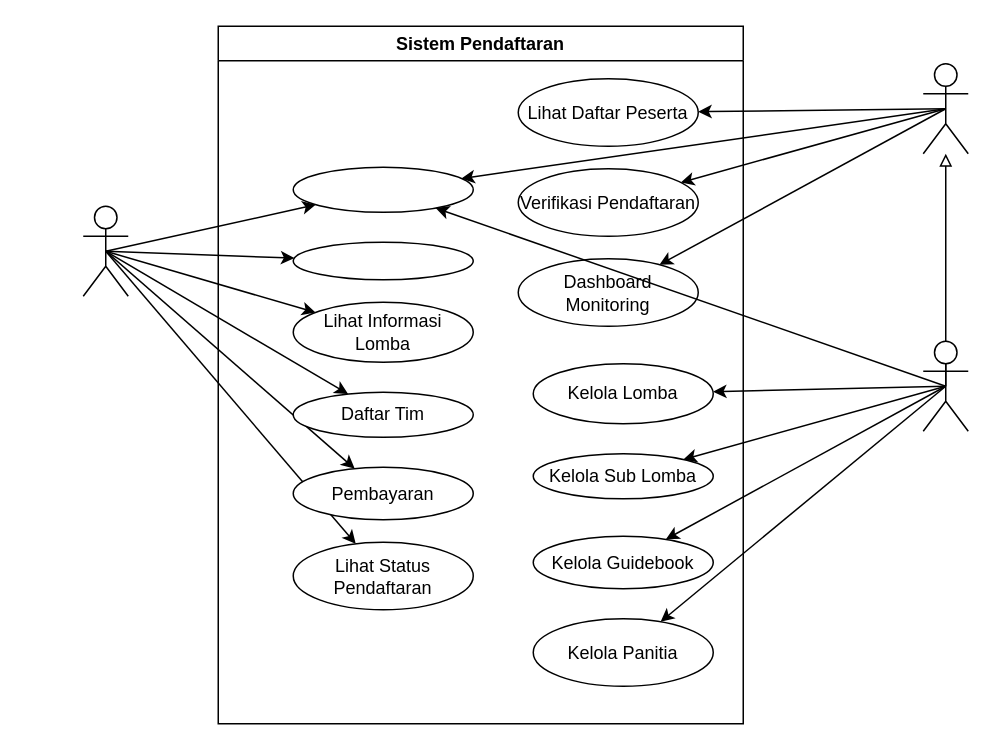
Image size: 999x750. Some labels were removed from this diagram. Each missing label, with the box of its shape:
Admin: (922, 340, 968, 431)
Login: (292, 166, 473, 212)
Panitia: (922, 62, 968, 154)
Pengguna / Peserta: (82, 205, 128, 296)
Register: (292, 241, 473, 280)
